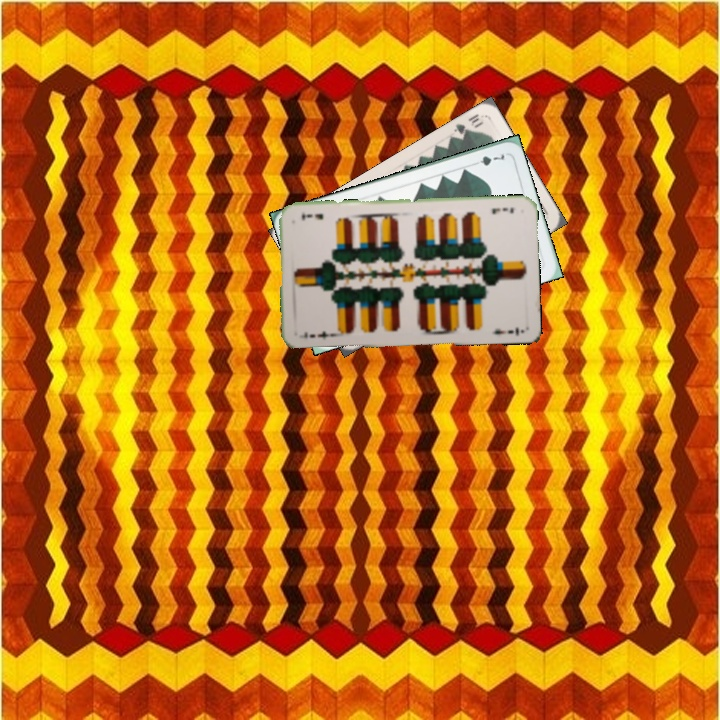E7: (299, 327, 336, 342), (488, 203, 517, 217)
G10: (449, 109, 486, 142)
G7: (468, 150, 507, 168)
